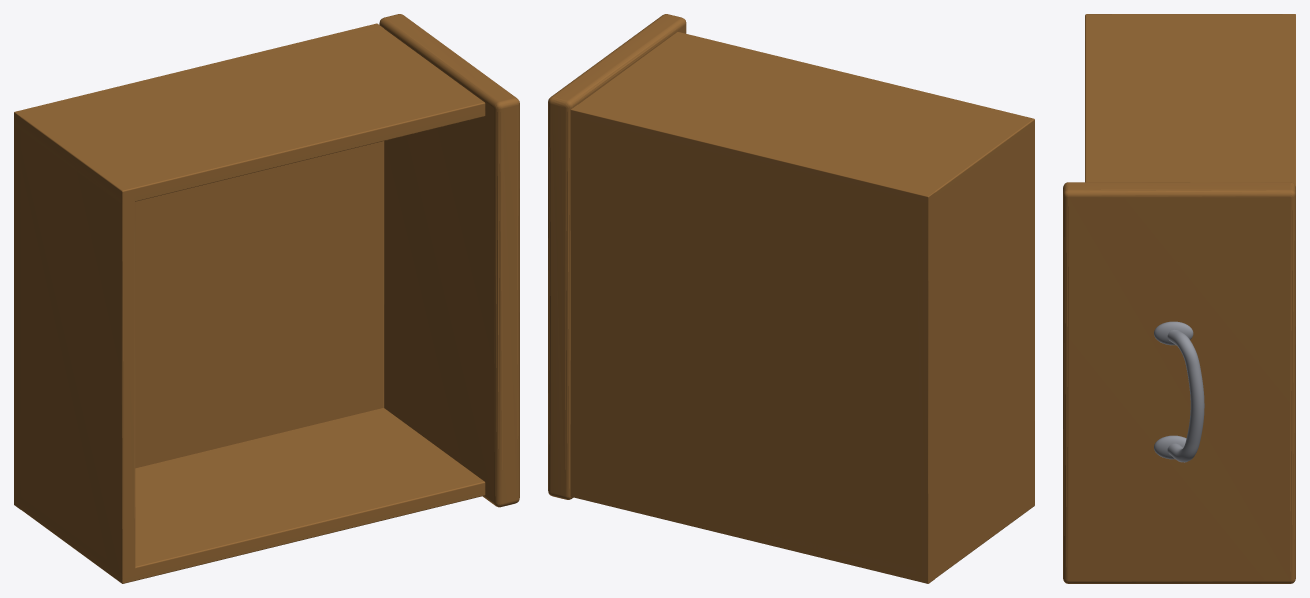
The picture shows the model from 3 angles, left to right: view 1: azimuth 30°, elevation 25°; view 2: azimuth 150°, elevation 25°; view 3: azimuth 270°, elevation 25°; orthographic projection. The views are drawn at different scales.
Visible parts, largest first — view 1: __articraft_commit_0002_0001, __articraft_commit_0002_0000; view 2: __articraft_commit_0002_0001, __articraft_commit_0002_0000; view 3: __articraft_commit_0002_0000, __articraft_commit_0002_0001, __articraft_commit_0002_0002.
Boxes of the visible parts, x1,y1,x2,y2 form: __articraft_commit_0002_0001: [14, 23, 485, 583]; __articraft_commit_0002_0000: [379, 14, 519, 507]; __articraft_commit_0002_0001: [570, 32, 1034, 583]; __articraft_commit_0002_0000: [548, 14, 686, 499]; __articraft_commit_0002_0000: [1063, 182, 1295, 583]; __articraft_commit_0002_0001: [1085, 14, 1295, 186]; __articraft_commit_0002_0002: [1154, 321, 1204, 462].
Bounding box in the file's own units: 0.4134 × 0.373 × 0.2.
